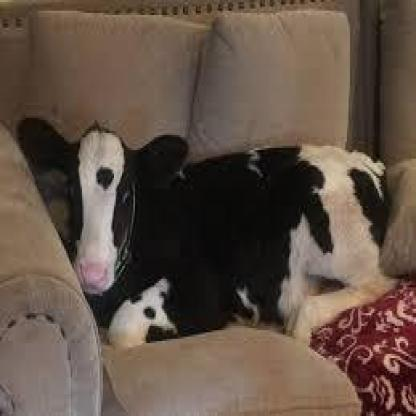cow: (15, 113, 399, 346)
